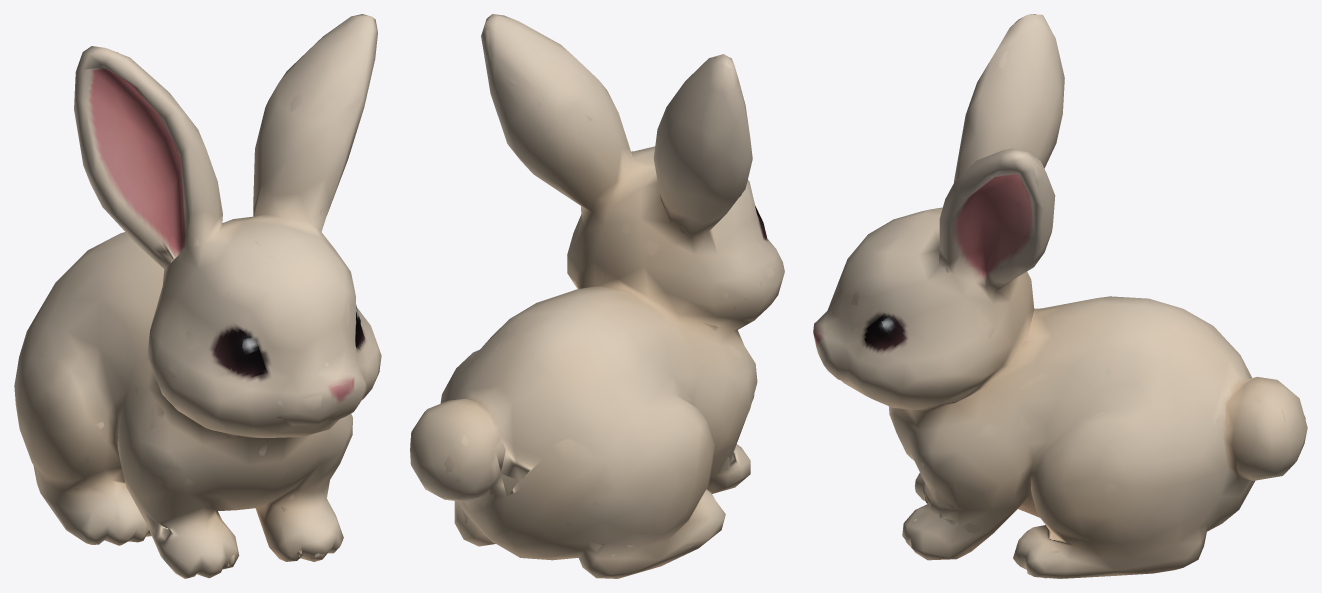
File: rabbit.glb
3 renders of one model, left to right at view 1: azimuth 30°, elevation 25°; view 2: azimuth 150°, elevation 25°; view 3: azimuth 270°, elevation 25°, orthographic. The views are drawn at different scales.
Visible parts, largest first — view 1: rabbit; view 2: rabbit; view 3: rabbit.
Part boxes in pixels (x1,y1,x2,y2): rabbit: (14,14,381,578); rabbit: (410,14,784,578); rabbit: (813,14,1307,578).
Size of the model in its own units: 0.5928 by 0.9997 by 0.9528.
Materials: 1 (1 with a texture image).
